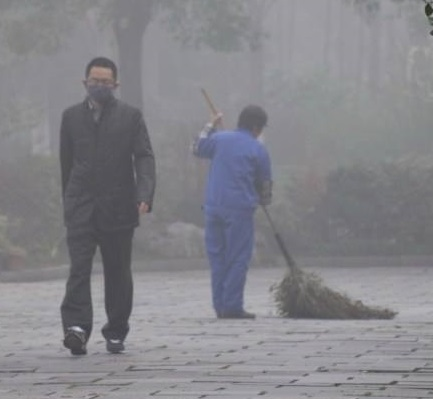person: (57, 56, 160, 356), (190, 103, 274, 322)
